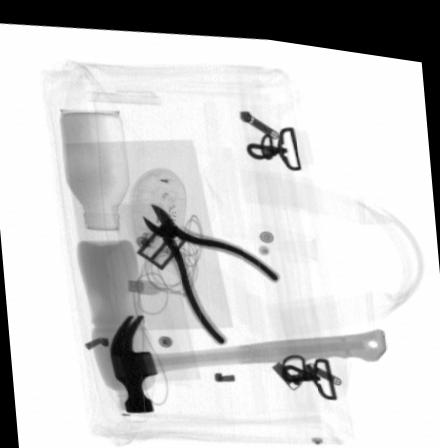Hammer: (110, 310, 386, 410)
Pliers: (142, 199, 279, 339)
